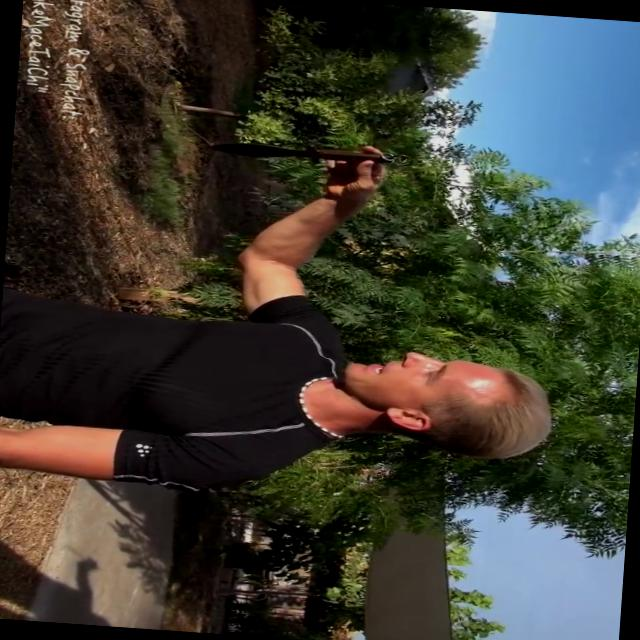knife: (203, 134, 427, 178)
